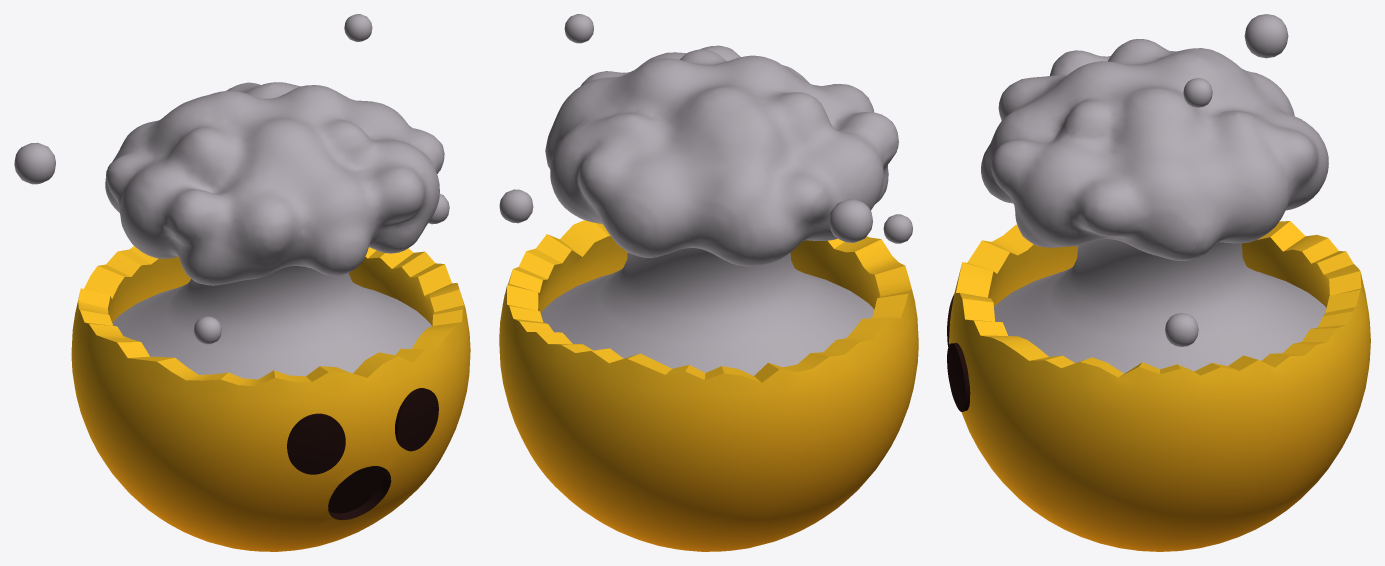
Rendered from Exploding_Head.gltf.
The picture shows the model from 3 angles, left to right: view 1: azimuth 30°, elevation 25°; view 2: azimuth 150°, elevation 25°; view 3: azimuth 270°, elevation 25°; orthographic projection. The views are drawn at different scales.
Parts seen in each view (by area): view 1: Exploding Head; view 2: Exploding Head; view 3: Exploding Head.
Boxes of the visible parts, x1,y1,x2,y2 form: Exploding Head: (14, 14, 470, 551); Exploding Head: (499, 14, 918, 551); Exploding Head: (947, 14, 1370, 551).
Size of the model in its own units: 1.91 by 2.24 by 1.7.
3 materials, 1 textured.
